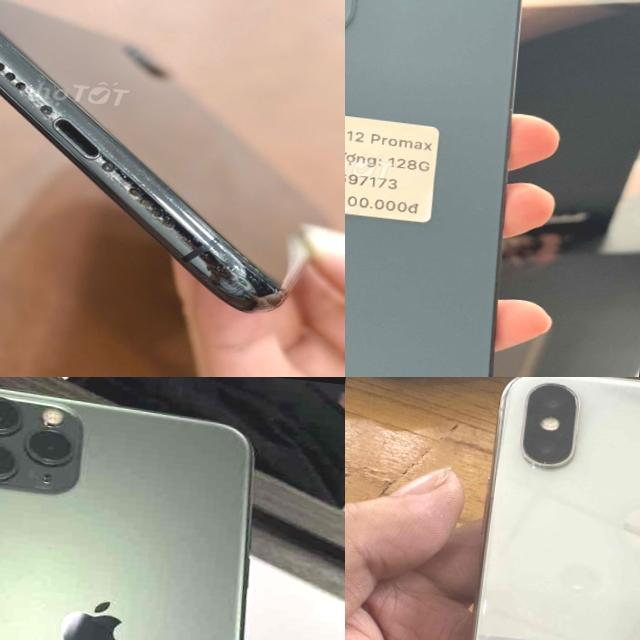scratch: (31, 102, 300, 304), (0, 0, 81, 134)
